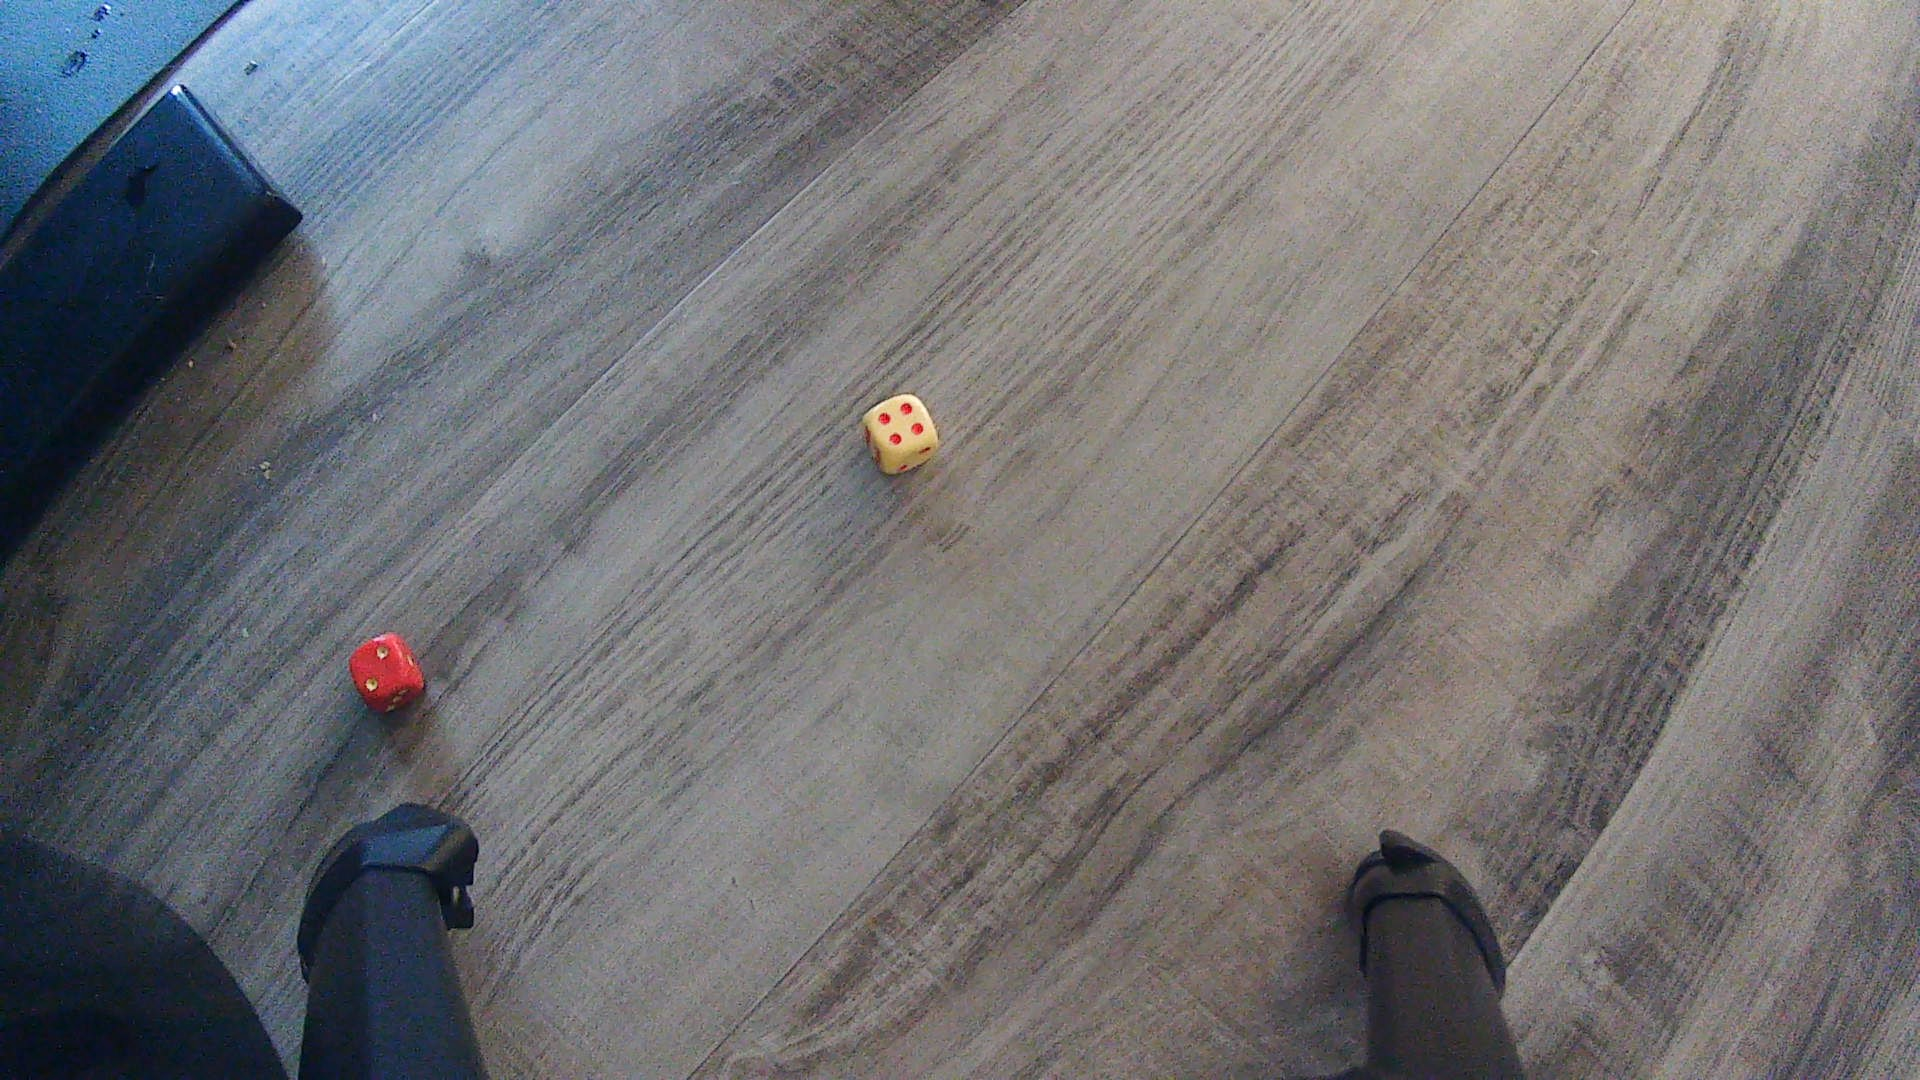die: (860, 392, 942, 476), (349, 632, 429, 713)
